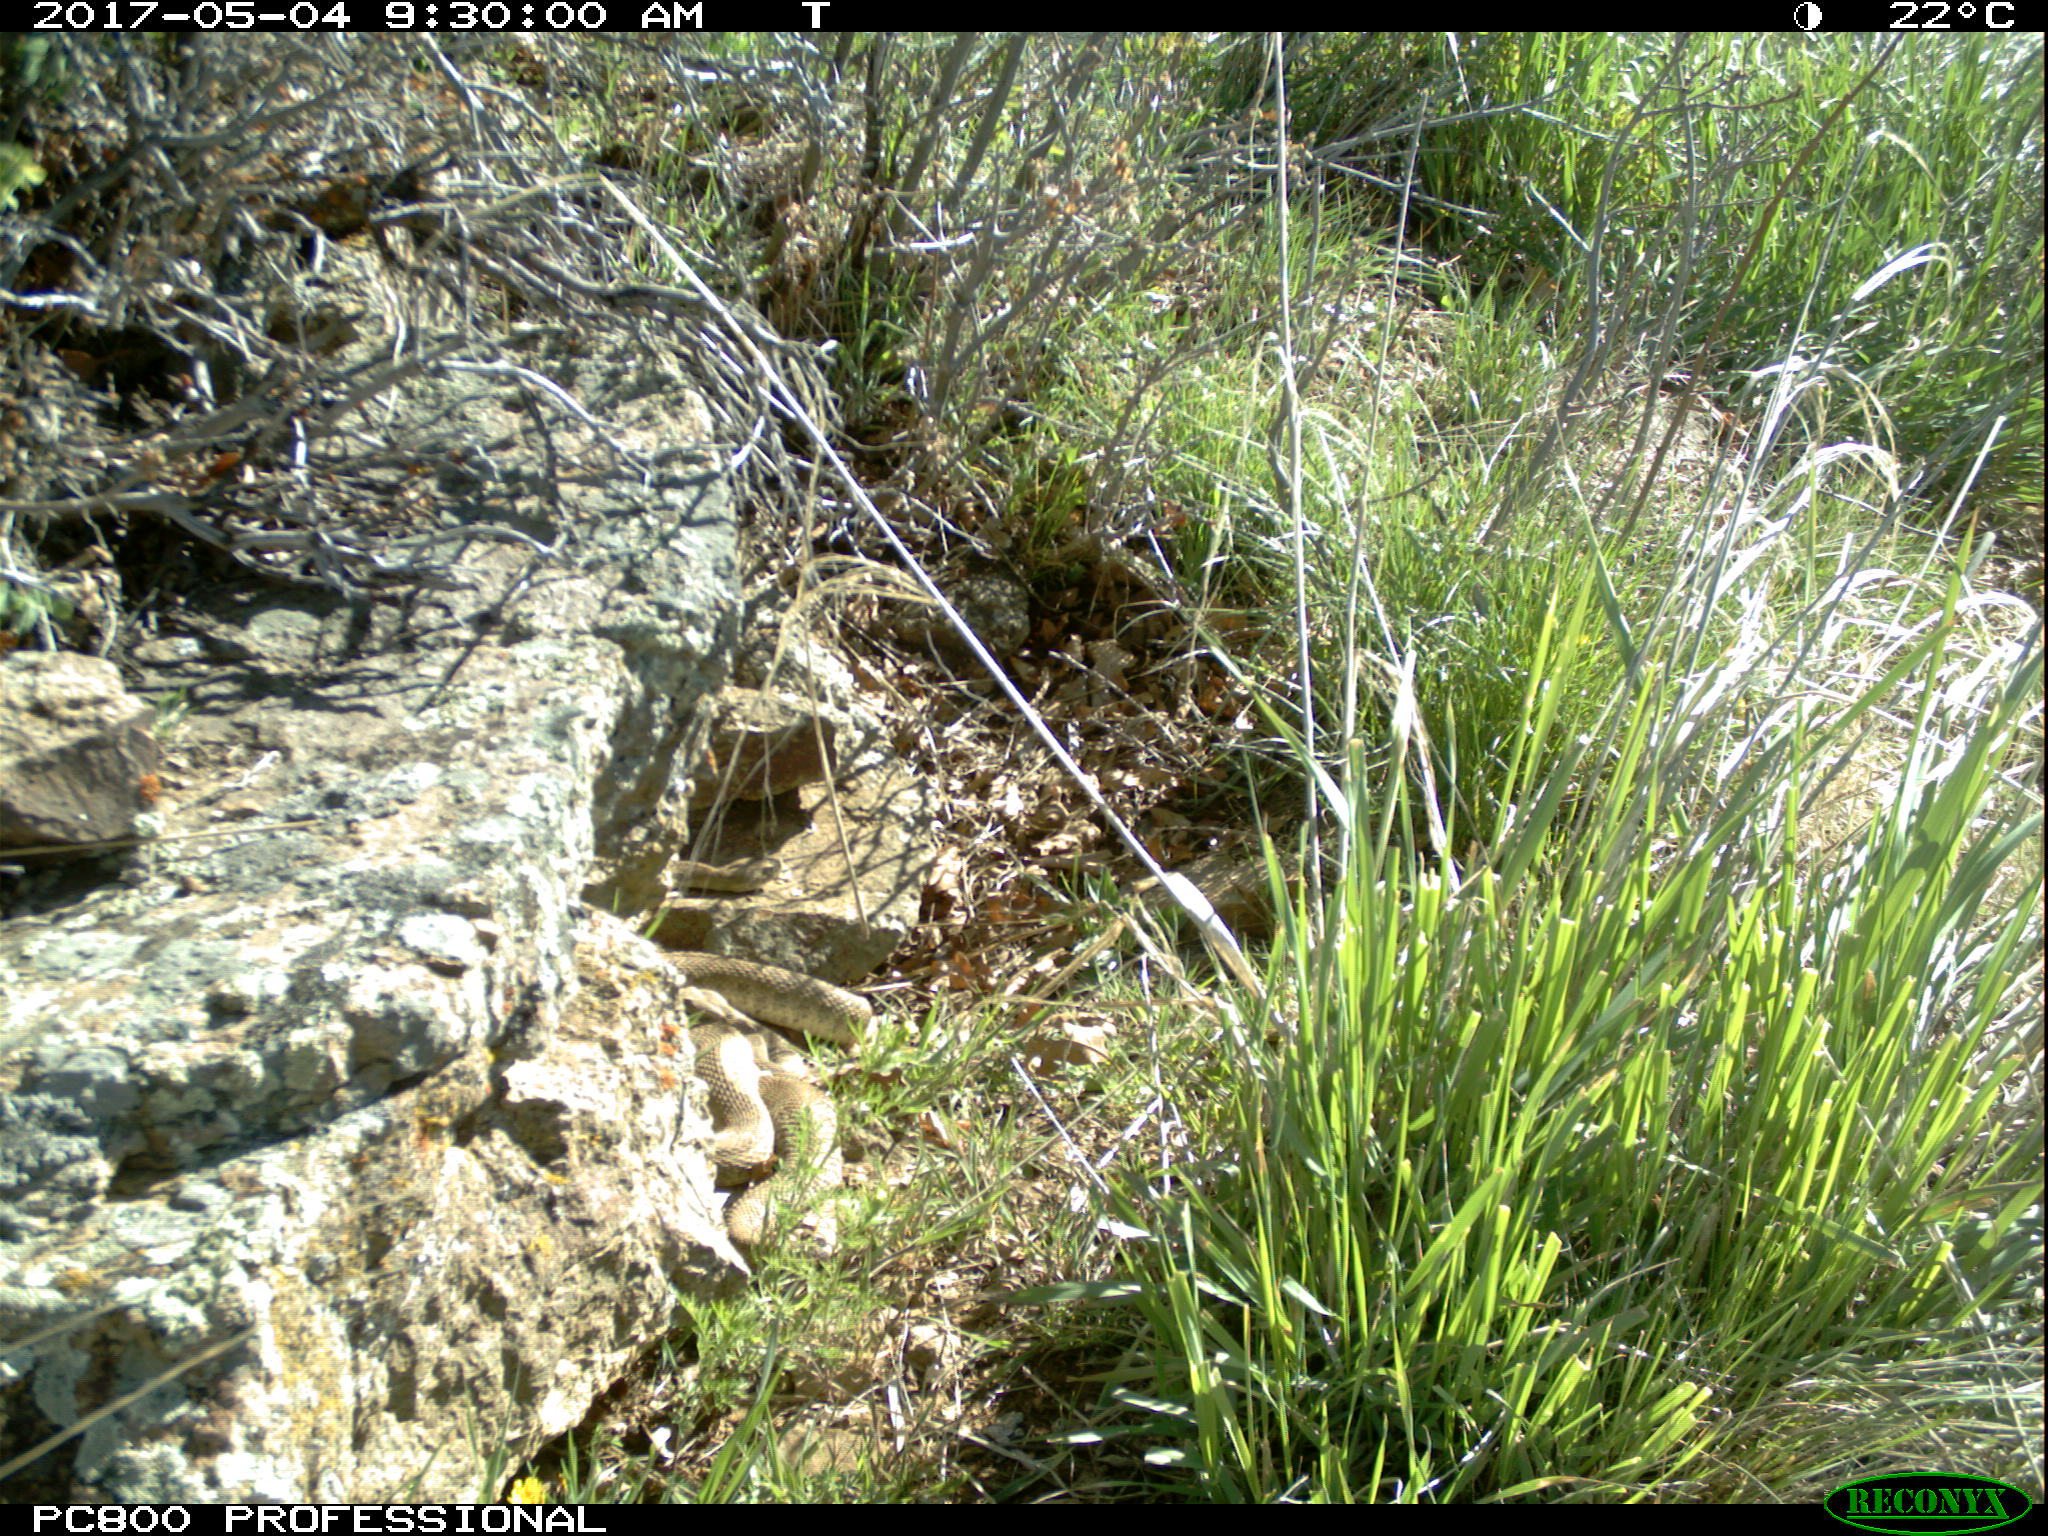snake: (664, 942, 872, 1265), (671, 857, 789, 895)
